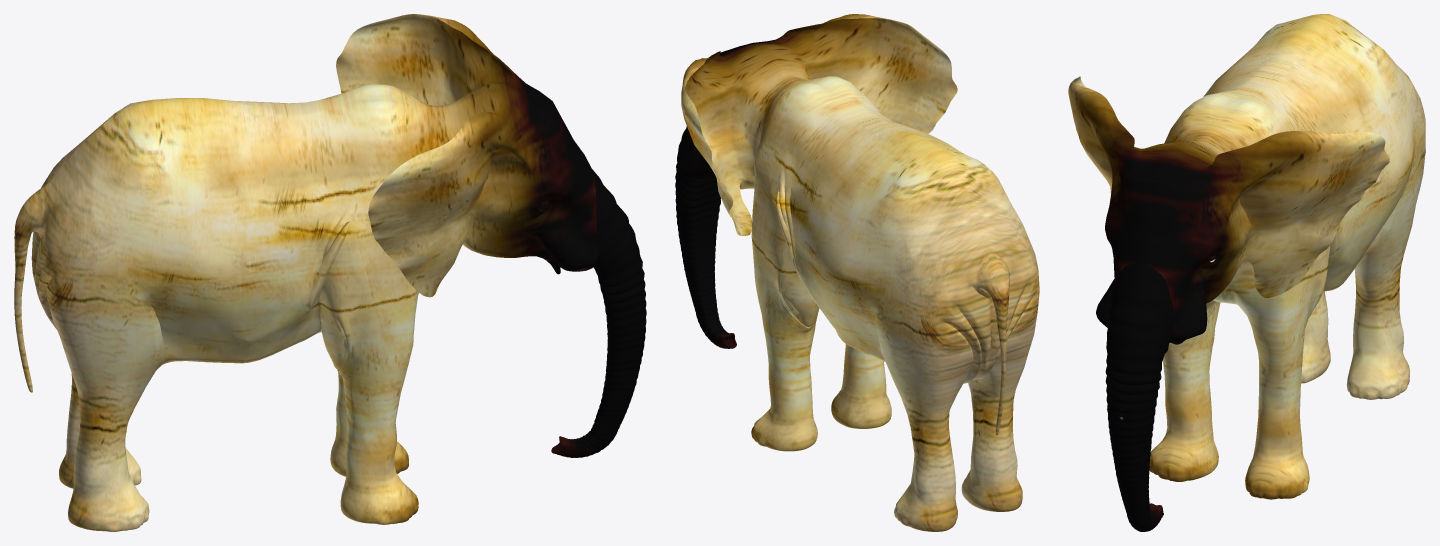
The model's file is bebe_elephant2.fbx.
The picture shows the model from 3 angles, left to right: view 1: azimuth 30°, elevation 25°; view 2: azimuth 150°, elevation 25°; view 3: azimuth 270°, elevation 25°; orthographic projection. The views are drawn at different scales.
Parts seen in each view (by area): view 1: MainEleM.001; view 2: MainEleM.001; view 3: MainEleM.001.
Part boxes in pixels (box(x1,y1,x2,y2)): MainEleM.001: box(14, 14, 646, 531); MainEleM.001: box(675, 14, 1039, 531); MainEleM.001: box(1068, 14, 1425, 531).
Bounding box in the file's own units: 397 × 313 × 256.
1 material, 1 textured.
